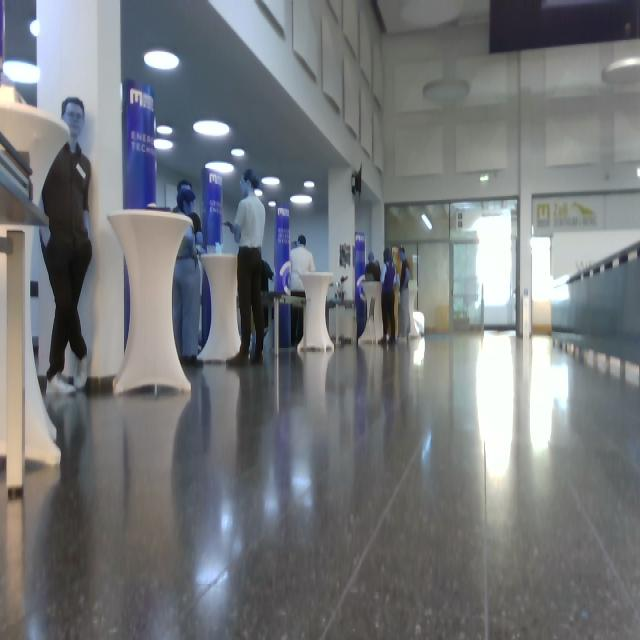door: (385, 197, 519, 336), (451, 241, 482, 332)
light bulb: (423, 78, 470, 104), (602, 56, 640, 85), (3, 60, 41, 85), (144, 49, 180, 70), (193, 120, 230, 137), (205, 161, 235, 174), (290, 194, 313, 205), (154, 139, 173, 151), (30, 18, 40, 37), (422, 215, 433, 231), (262, 177, 280, 186), (157, 125, 173, 134), (231, 148, 245, 157), (304, 181, 315, 188), (255, 189, 263, 197), (268, 201, 277, 208)
person: (41, 97, 93, 394), (223, 169, 266, 366), (172, 185, 202, 364), (290, 235, 316, 347)
table: (106, 206, 197, 401)
tiled floor: (1, 329, 640, 638)
